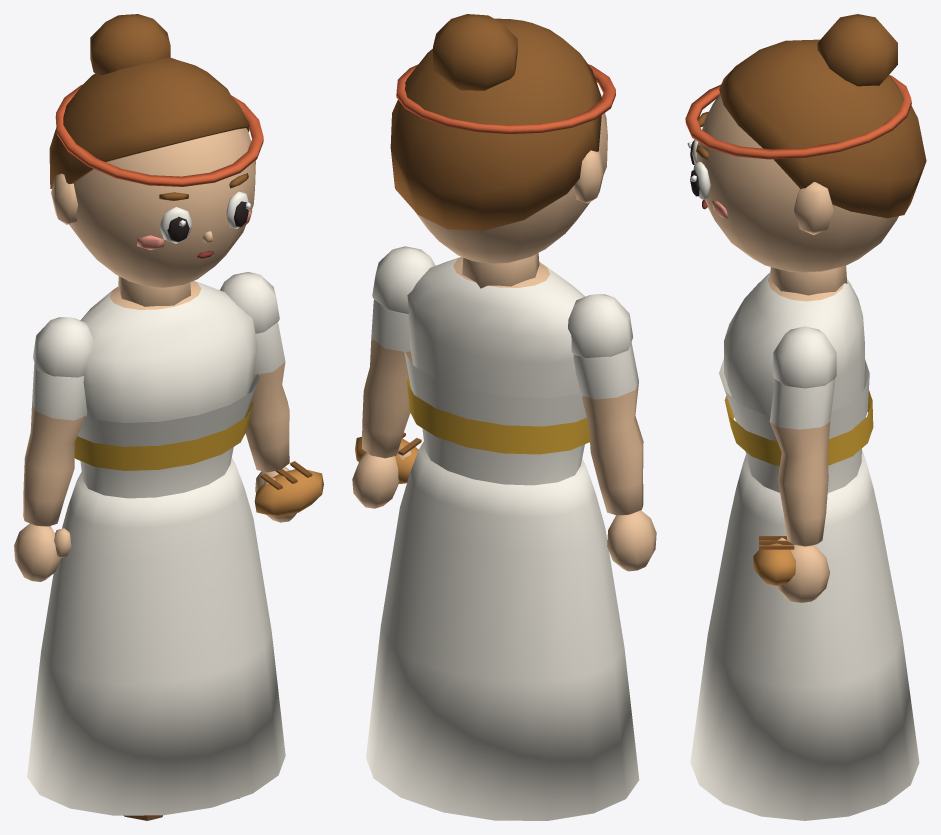
File: baeckerin.glb
3 renders of one model, left to right at view 1: azimuth 30°, elevation 25°; view 2: azimuth 150°, elevation 25°; view 3: azimuth 270°, elevation 25°, orthographic. The views are drawn at different scales.
Visible parts, largest first — view 1: huefte, rumpf, kopf, haare, armL, armR, kopfschmuck, itemR, augeL, augeR; view 2: huefte, haare, rumpf, armL, armR, kopf, kopfschmuck, itemR; view 3: huefte, haare, rumpf, kopf, armR, kopfschmuck, itemR, augeR.
Part boxes in pixels (x1,y1,x2,y2): huefte: [27, 458, 285, 815]; rumpf: [74, 281, 259, 498]; kopf: [51, 128, 255, 306]; haare: [49, 14, 249, 188]; armL: [14, 317, 93, 581]; armR: [220, 272, 296, 522]; kopfschmuck: [55, 84, 263, 186]; itemR: [254, 461, 323, 516]; augeL: [159, 207, 192, 243]; augeR: [226, 191, 250, 228]; huefte: [366, 441, 639, 820]; haare: [390, 14, 601, 230]; rumpf: [404, 256, 589, 485]; armL: [568, 294, 656, 571]; armR: [352, 246, 435, 508]; kopf: [415, 113, 607, 288]; kopfschmuck: [396, 64, 615, 133]; itemR: [355, 432, 421, 483]; huefte: [690, 449, 919, 820]; haare: [719, 14, 926, 218]; rumpf: [719, 272, 873, 493]; kopf: [696, 93, 898, 295]; armR: [769, 326, 836, 603]; kopfschmuck: [685, 75, 911, 159]; itemR: [753, 536, 795, 585]; augeR: [690, 162, 710, 199].
Bounding box in the file's own units: 0.98 × 2.38 × 0.6843.
